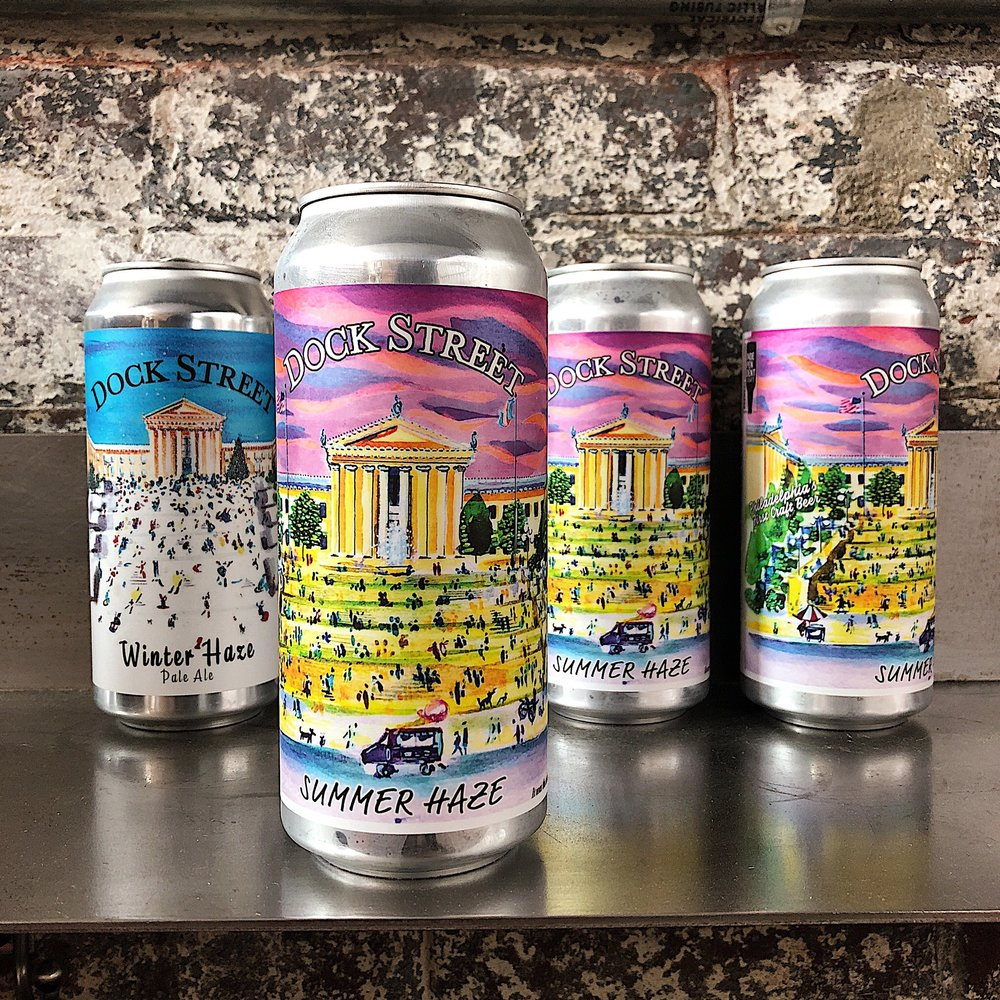beer can: (270, 185, 536, 884), (734, 257, 970, 737), (81, 255, 297, 739), (538, 255, 711, 725)
